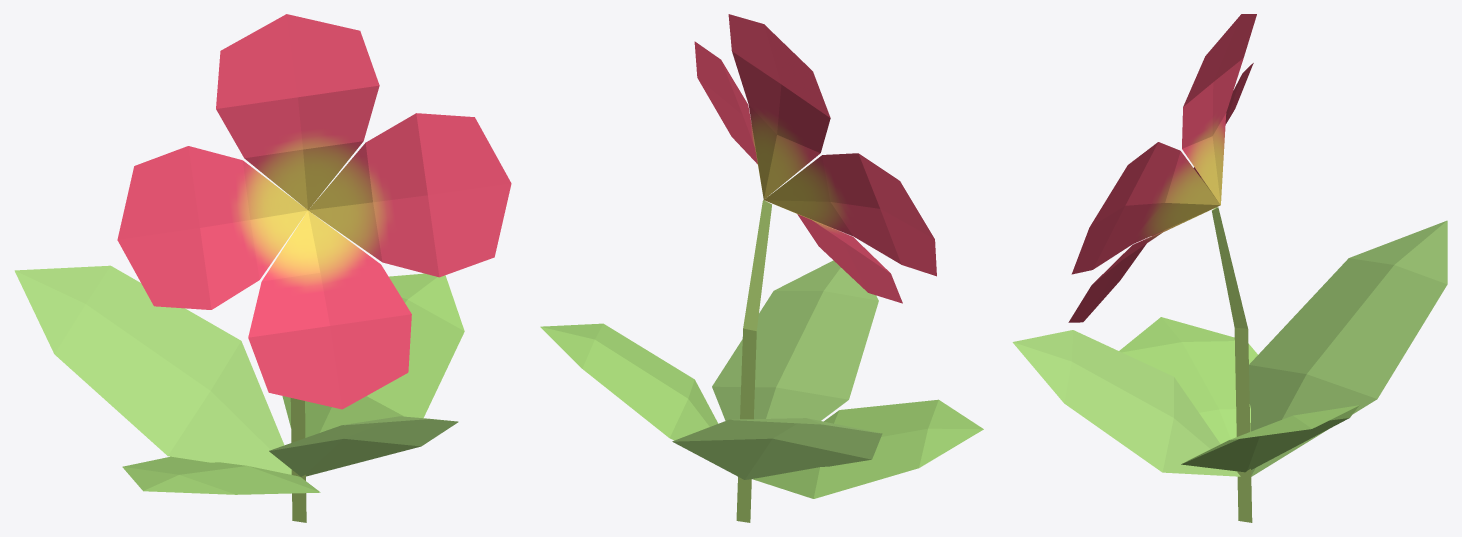
File: Flower_c_TwoS_11.fbx
3 views of the same model, side by side, from view 1: azimuth 30°, elevation 25°; view 2: azimuth 150°, elevation 25°; view 3: azimuth 270°, elevation 25° (orthographic). The views are drawn at different scales.
Visible parts, largest first — view 1: Flower_c_TwoS_11; view 2: Flower_c_TwoS_11; view 3: Flower_c_TwoS_11.
Part boxes in pixels (bbox=[...]): Flower_c_TwoS_11: bbox=[14, 14, 511, 522]; Flower_c_TwoS_11: bbox=[540, 14, 983, 522]; Flower_c_TwoS_11: bbox=[1012, 14, 1447, 522].
Bounding box in the file's own units: 0.3515 × 0.4542 × 0.3595.
